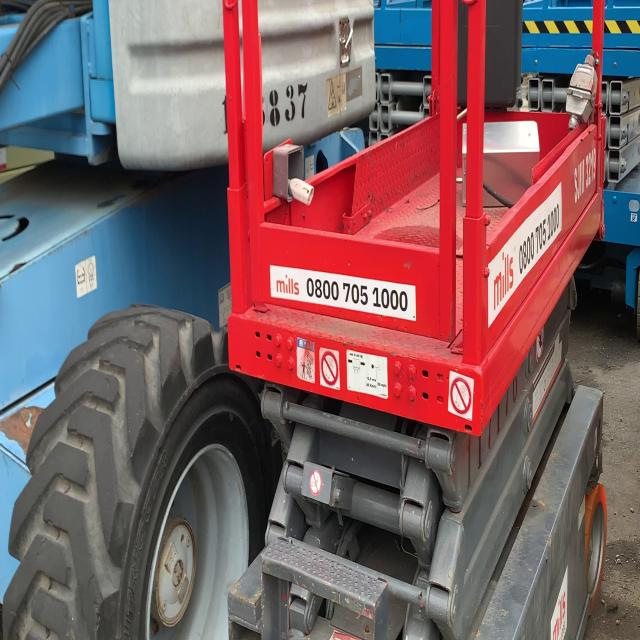Adesivo Longo: (486, 175, 564, 333), (268, 262, 418, 323)
